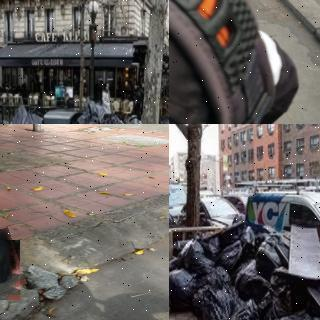Garbage: (193, 282, 240, 320), (0, 233, 23, 306), (169, 269, 195, 311), (222, 298, 260, 320), (116, 115, 146, 124)
